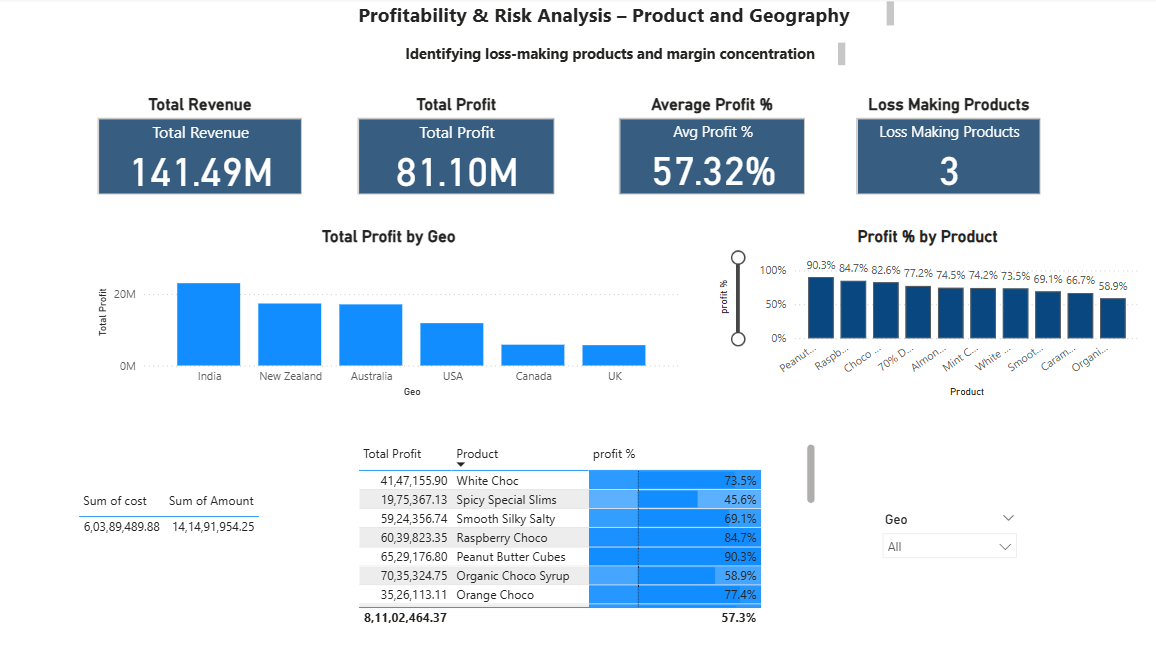

What the dashboard file says about the page in this screenshot:
{"tool":"powerbi","page":{"name":"Page 2","canvas":[1280,720],"ordinal":1},"visuals":[{"type":"tableEx","fields":{"Values":["Sum(shipments.cost)","Sum(shipments.Amount)"]},"box":[10.5,0,374.9,398.8],"z":0},{"type":"slicer","fields":{"Values":["locations.Geo"]},"box":[252.4,0,374.9,200.2],"z":1000},{"type":"clusteredColumnChart","fields":{"Category":["locations.Geo"],"Y":["shipments.total profit"]},"box":[103.1,13.4,357,706.6],"z":2000},{"type":"tableEx","fields":{"Values":["shipments.total profit","products.Product","shipments.profit %"]},"box":[757.3,31.4,522.8,670.7],"z":3000},{"type":"clusteredBarChart","fields":{"Category":["products.Product"],"Y":["shipments.profit %"]},"box":[440.7,13.4,291.3,295.8],"z":5000}]}

Visuals, with their boxes in screenshot pixels (x1, y1, x2, y2), scaled from the page's 1280x720 canvas onto the 1156x652 screenshot:
tableEx - Sum(shipments.cost) x Sum(shipments.Amount): 9/0/348/361
slicer - locations.Geo: 228/0/567/181
clusteredColumnChart - locations.Geo x shipments.total profit: 93/12/416/651
tableEx - shipments.total profit x products.Product: 684/28/1155/636
clusteredBarChart - products.Product x shipments.profit %: 398/12/661/280
